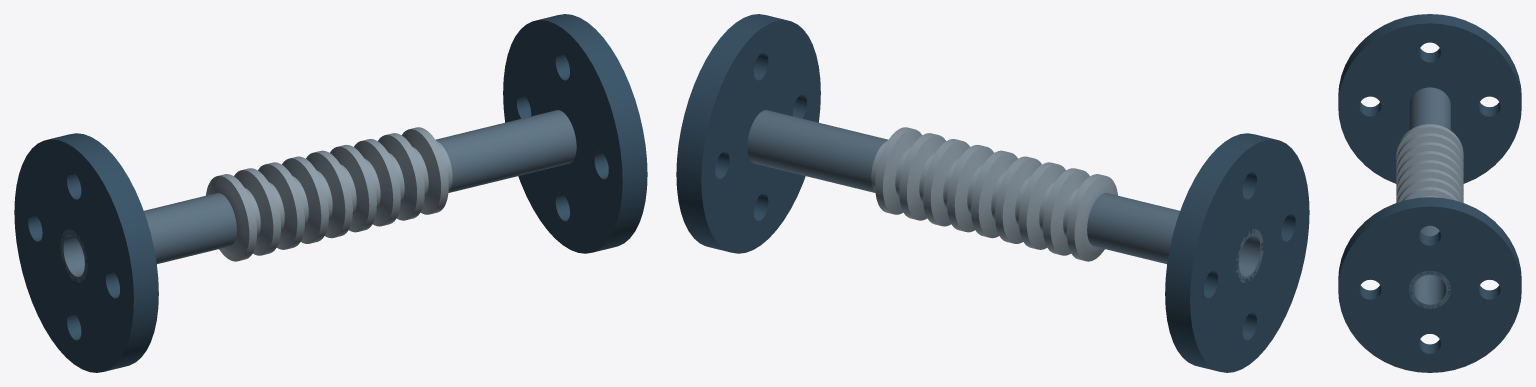
The model's file is flan-dn20-L290-D26_9-f-o105.glb.
3 views of the same model, side by side, from view 1: azimuth 30°, elevation 25°; view 2: azimuth 150°, elevation 25°; view 3: azimuth 270°, elevation 25° (orthographic). The views are drawn at different scales.
Parts seen in each view (by area): view 1: homut_flanec_1, homut_flanec_2, prokladka_silfon_1, patrubok_2, patrubok_1; view 2: homut_flanec_1, homut_flanec_2, prokladka_silfon_1, patrubok_2, patrubok_1; view 3: homut_flanec_2, homut_flanec_1, prokladka_silfon_1, patrubok_1, patrubok_2.
Boxes of the visible parts, box(x1,y1,x2,y2) form: homut_flanec_1: box(14, 133, 158, 372); homut_flanec_2: box(503, 14, 647, 253); prokladka_silfon_1: box(206, 127, 452, 261); patrubok_2: box(435, 110, 576, 192); patrubok_1: box(60, 193, 236, 282); homut_flanec_1: box(1165, 133, 1309, 372); homut_flanec_2: box(676, 14, 820, 253); prokladka_silfon_1: box(871, 127, 1117, 261); patrubok_2: box(747, 110, 888, 192); patrubok_1: box(1087, 193, 1263, 282); homut_flanec_2: box(1338, 197, 1521, 372); homut_flanec_1: box(1338, 14, 1521, 183); prokladka_silfon_1: box(1396, 124, 1463, 202); patrubok_1: box(1409, 87, 1450, 130); patrubok_2: box(1409, 225, 1450, 308).
Bounding box in the file's own units: 290 × 117 × 117.
